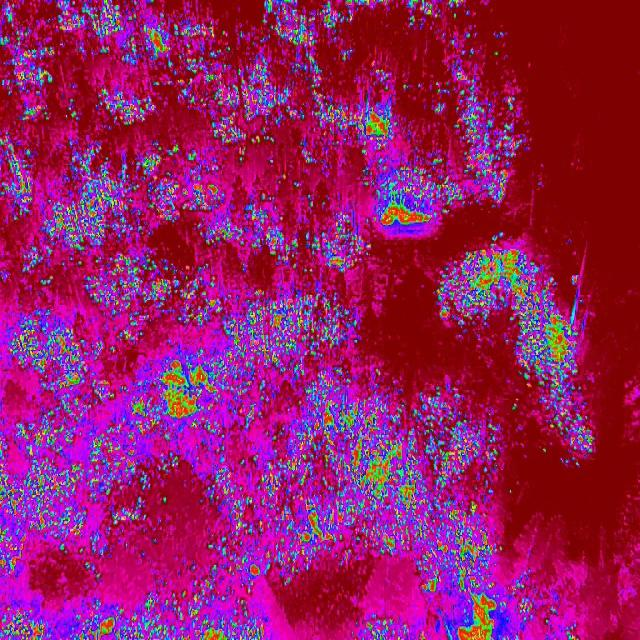fire: (0, 0, 370, 640), (370, 371, 502, 640), (369, 0, 516, 235), (443, 246, 585, 342), (517, 340, 597, 466), (502, 565, 582, 640)
